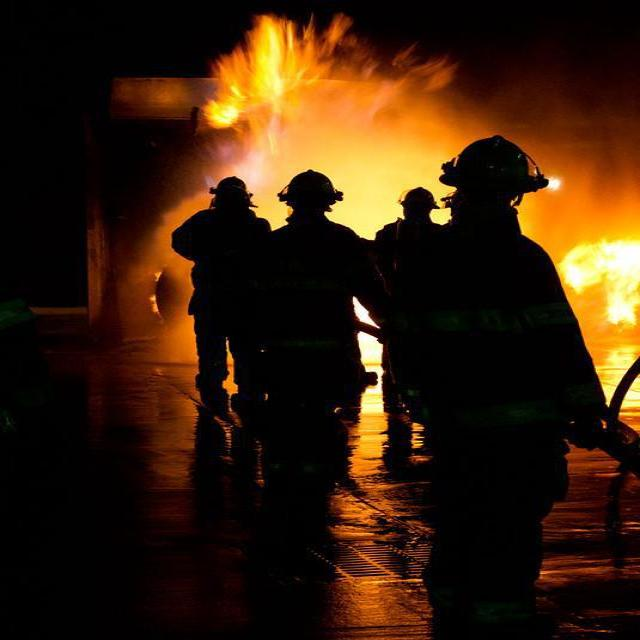fire: (192, 15, 445, 193), (564, 219, 638, 325)
